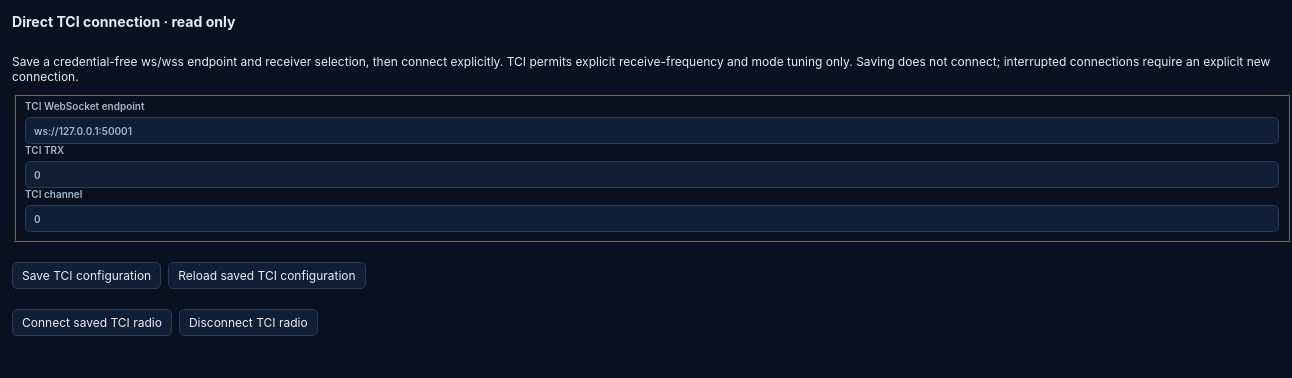
it: TCI refuses invalid receiver index -1
Replace the text in the number field named "Shared TCI channel" with "-1" at [652, 219], box [25,205,1279,232]
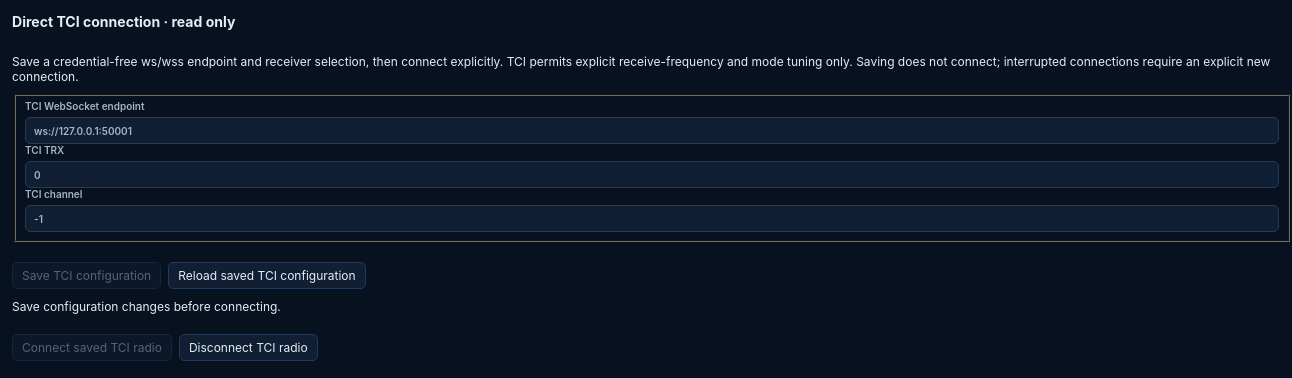
Expected: the button "Save TCI configuration" is disabled, [12,262,161,289]
